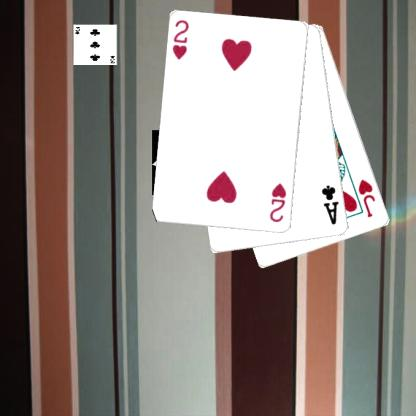2H: (267, 180, 288, 224), (170, 18, 190, 61)
AC: (319, 183, 341, 226)
JH: (356, 177, 377, 219)
